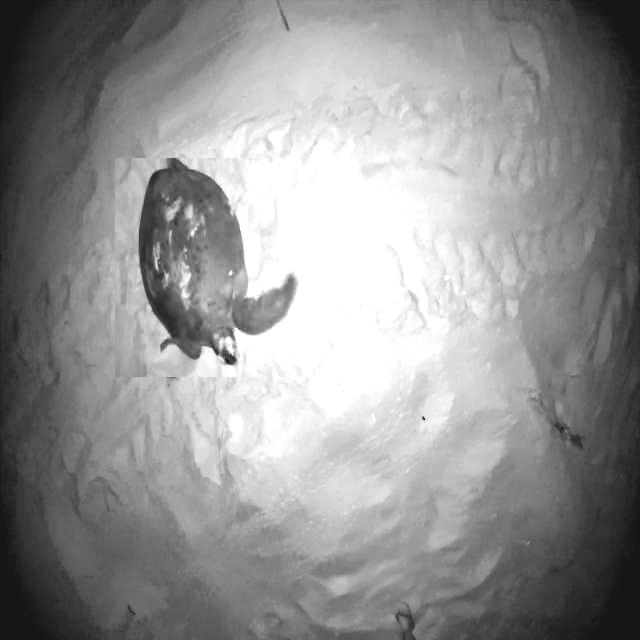Sea turtle: (115, 158, 302, 377)
